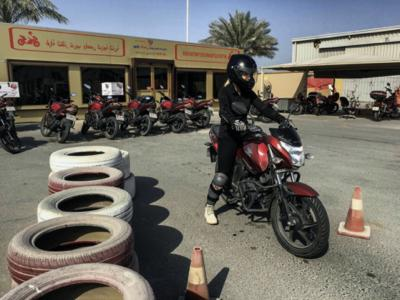With Helmet: (223, 51, 264, 96)
